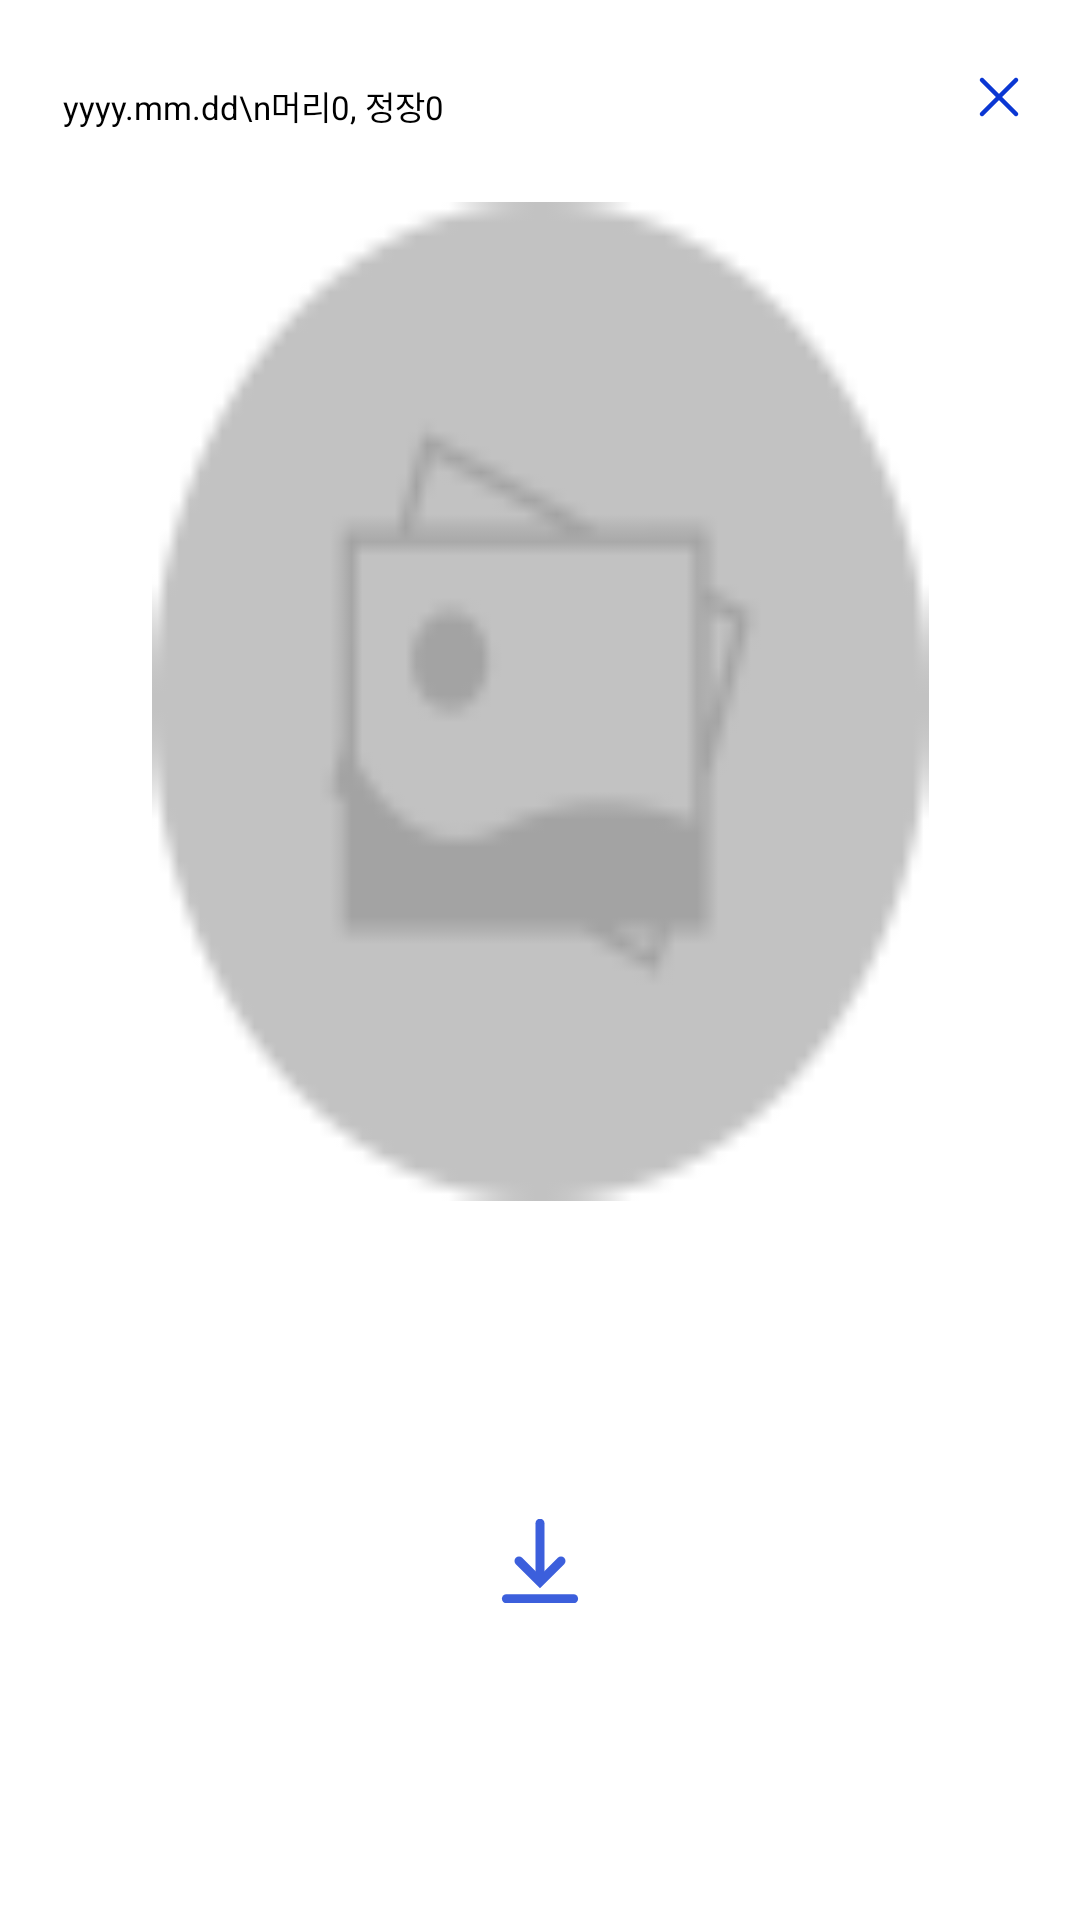

Icon click points for this 1080px x 1920px phone screenshot, format (x=x, y=y):
close: (x=999, y=97)
download: (x=540, y=1561)
